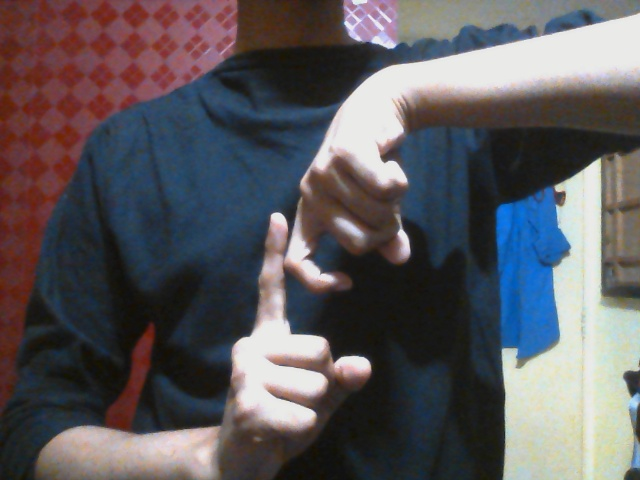K: (230, 138, 412, 469)
